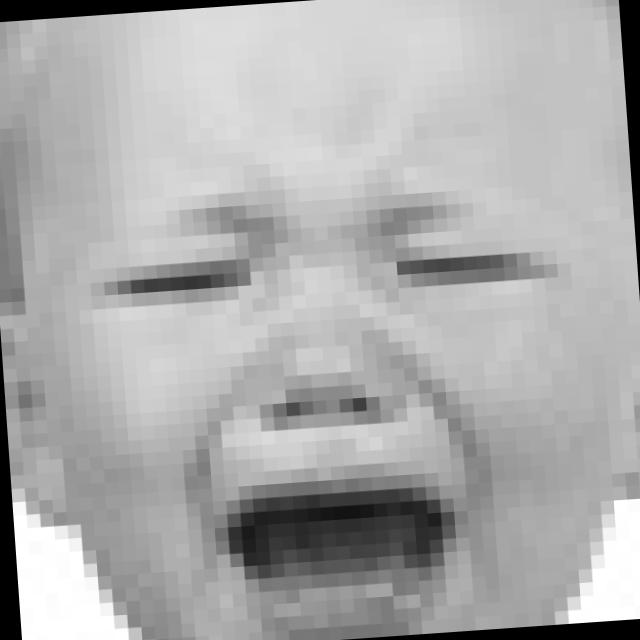sad: (90, 157, 588, 640)
